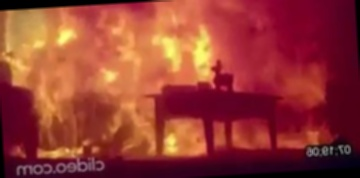fire: (0, 0, 346, 163)
